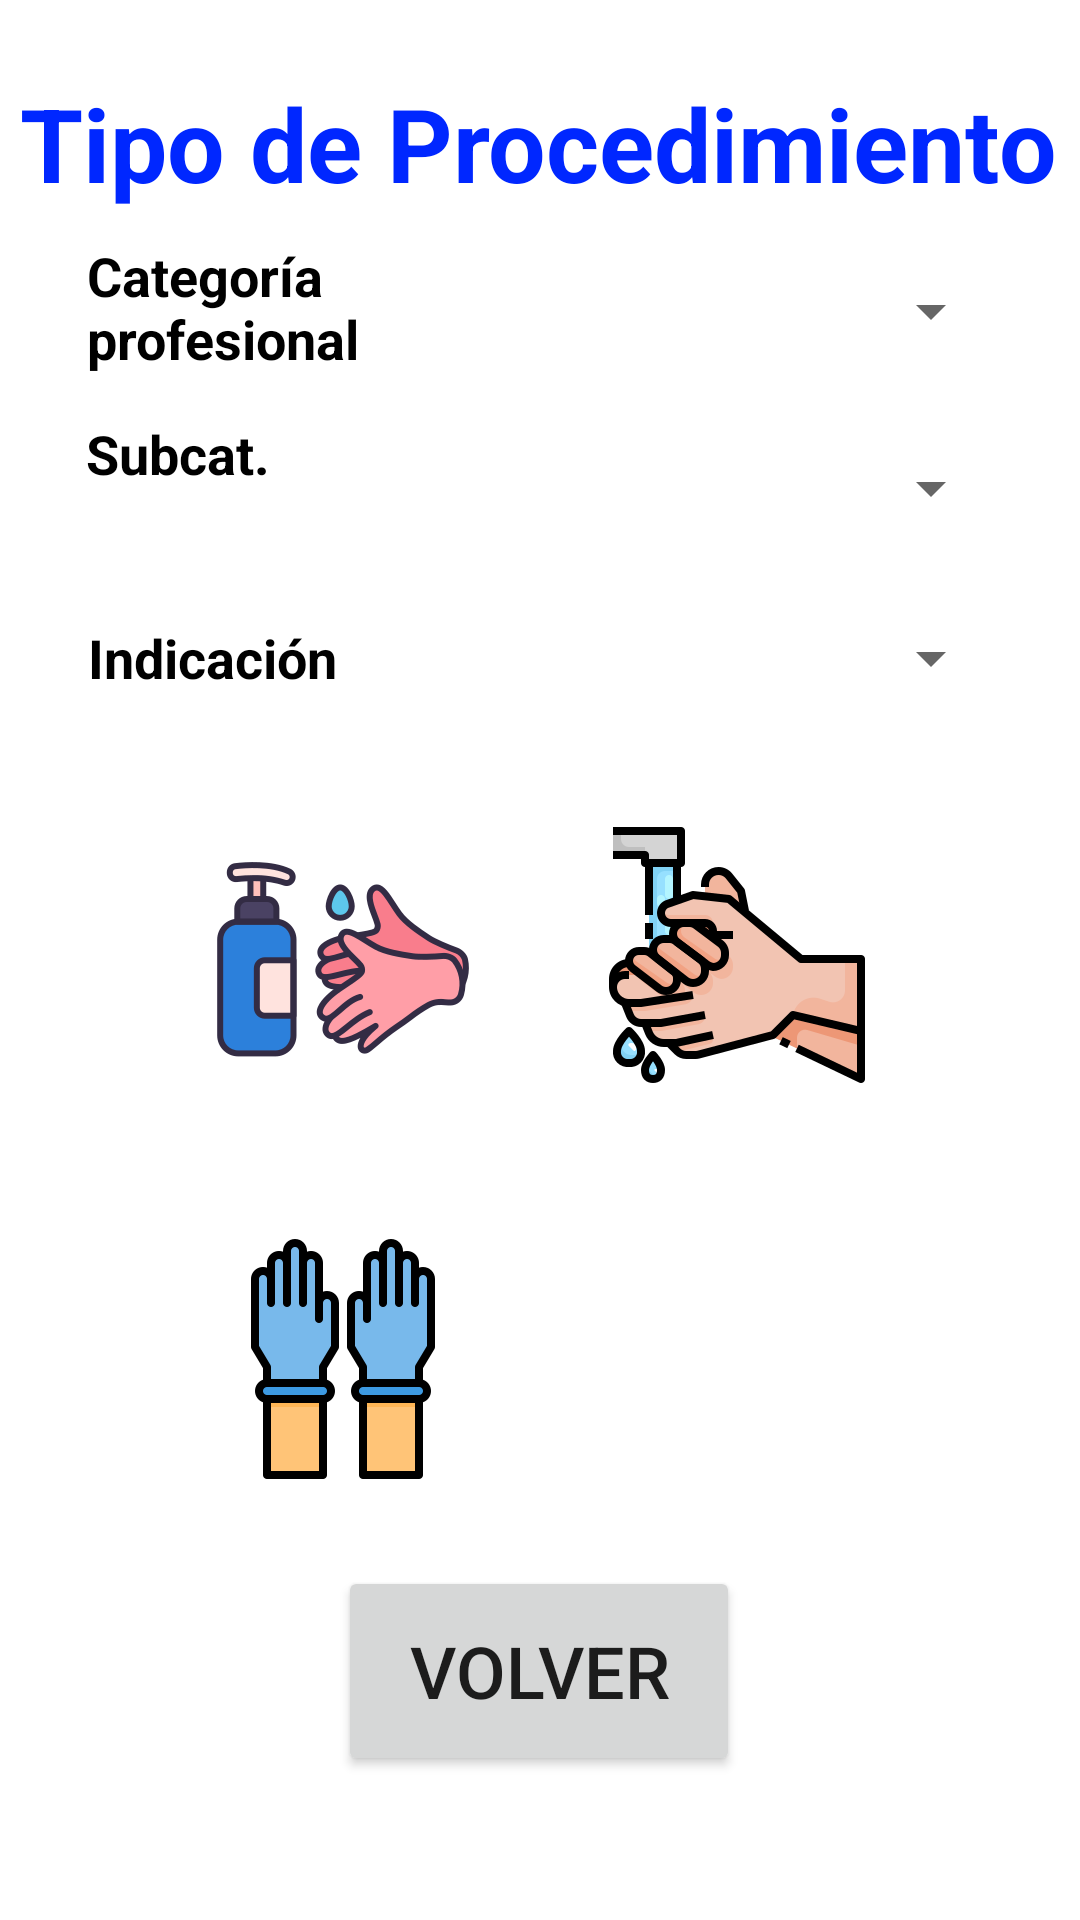

Where icons sit on this 1080×1920 app screen, as (x1=x1, y1=y1, x2=x2, y2=y2):
Agua y Jabón: (x1=609, y1=827, x2=865, y2=1083)
Gel Hidroalcohólico: (x1=217, y1=862, x2=469, y2=1057)
Guantes: (x1=251, y1=1239, x2=435, y2=1479)
